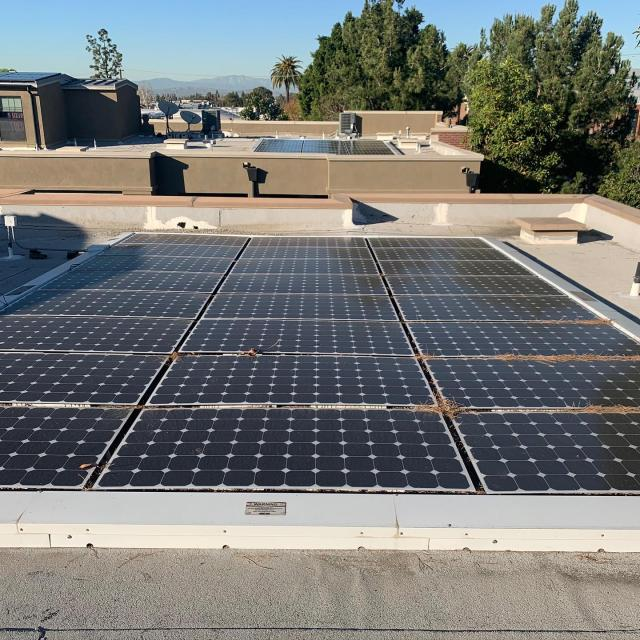dust-solar-panel: (93, 294, 640, 497)
